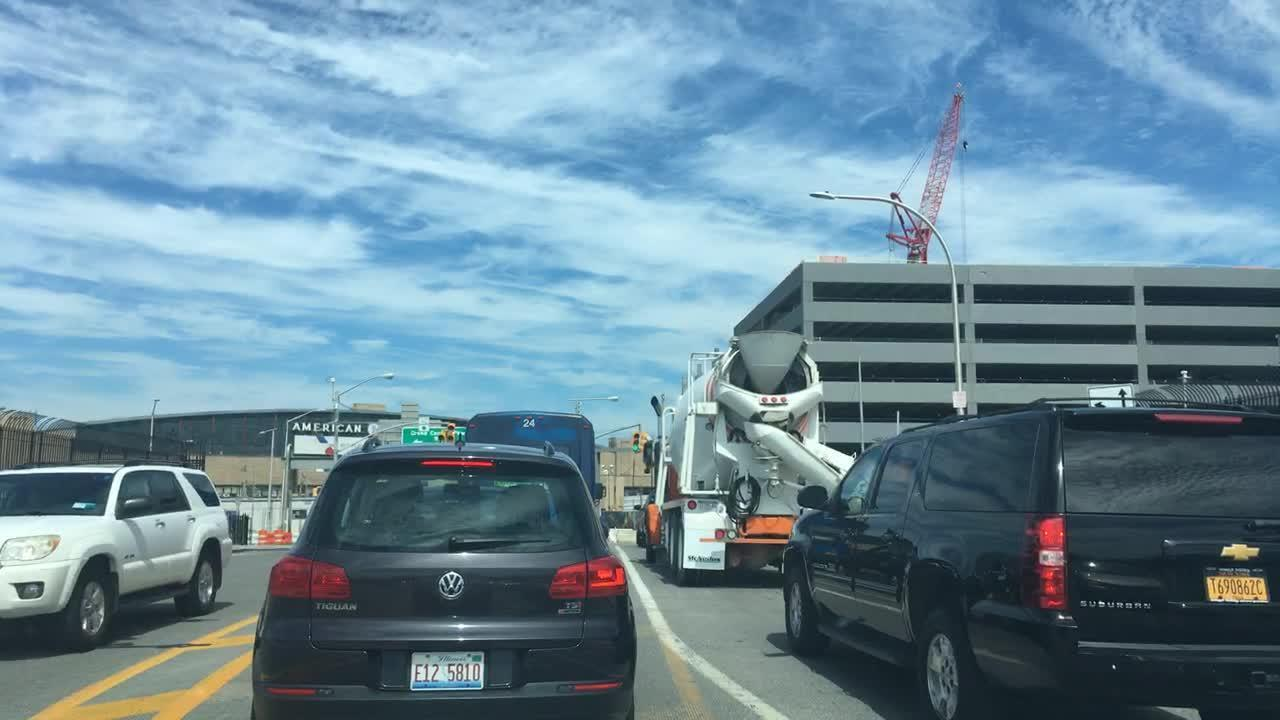Volkswagen: (429, 560, 479, 613)
chevrolet: (1217, 538, 1265, 565)
